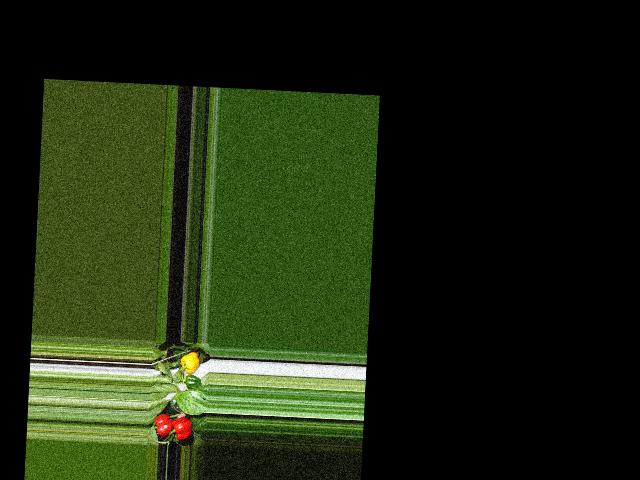bell_pepper: (179, 349, 201, 375)
